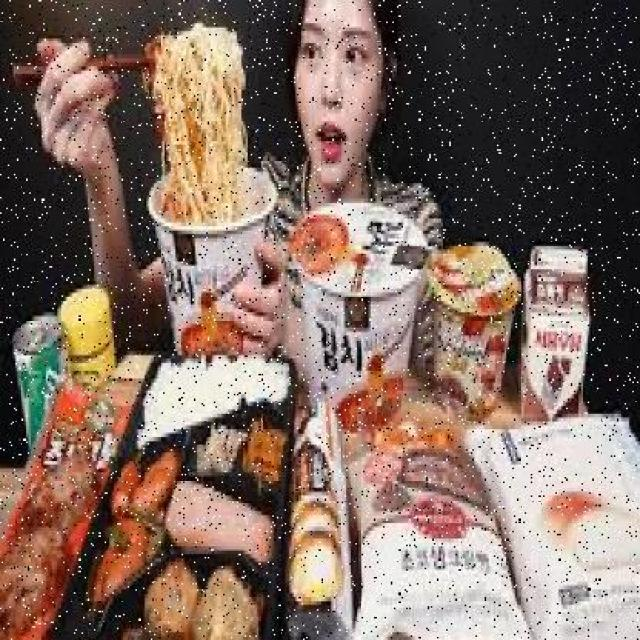Miscellaneous: (293, 202, 422, 433), (150, 160, 284, 372), (434, 244, 524, 413)
